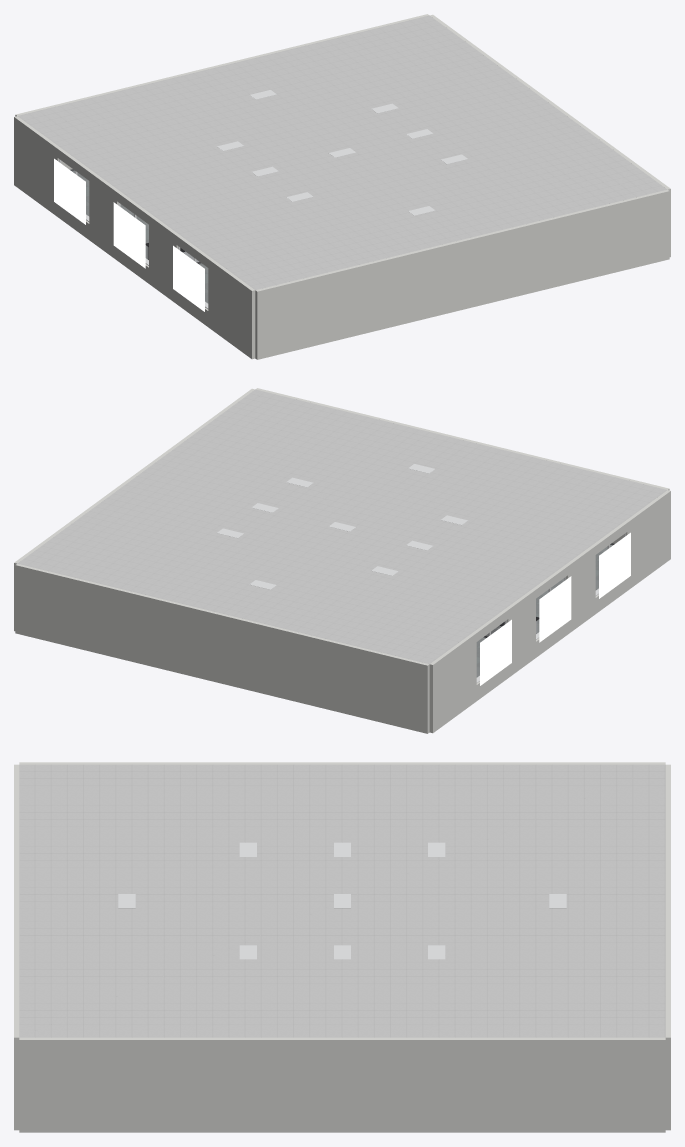
The model's file is lab-room.glb.
3 renders of one model, top to bottom at view 1: azimuth 30°, elevation 25°; view 2: azimuth 150°, elevation 25°; view 3: azimuth 270°, elevation 25°, orthographic. The views are drawn at different scales.
Parts seen in each view (by area): view 1: ceiling, wall_front, wall_left, wall_left.003, wall_left.002, wall_left.001, exterior_view.001, exterior_view, exterior_view.002, wall_back, wall_right, floor; view 2: ceiling, wall_back, wall_left.003, wall_left, wall_left.001, wall_left.002, exterior_view.001, exterior_view.002, exterior_view, wall_front, wall_right, floor; view 3: ceiling, wall_right, wall_back, wall_front.
Boxes of the visible parts, x1,y1,x2,y2 form: ceiling: (18, 15, 666, 289); wall_front: (255, 189, 669, 359); wall_left: (208, 258, 255, 359); wall_left.003: (14, 116, 60, 216); wall_left.002: (89, 171, 120, 260); wall_left.001: (149, 215, 179, 303); exterior_view.001: (113, 202, 145, 268); exterior_view: (173, 245, 204, 311); exterior_view.002: (54, 158, 85, 224); wall_back: (15, 14, 429, 169); wall_right: (430, 14, 670, 257); floor: (72, 170, 208, 303); ceiling: (18, 389, 666, 663); wall_back: (15, 563, 429, 733); wall_left.003: (429, 632, 476, 733); wall_left: (624, 490, 670, 590); wall_left.001: (564, 545, 595, 634); wall_left.002: (505, 589, 535, 677); exterior_view.001: (539, 576, 571, 642); exterior_view.002: (480, 619, 511, 685); exterior_view: (599, 532, 630, 598); wall_front: (255, 388, 669, 543); wall_right: (14, 388, 254, 631); floor: (476, 544, 612, 677); ceiling: (19, 764, 665, 1037); wall_right: (19, 1037, 665, 1132); wall_back: (665, 764, 670, 1130); wall_front: (14, 764, 19, 1130).
Bounding box in the file's own units: 24.61 × 3.81 × 24.4.
13 materials, 2 textured.
